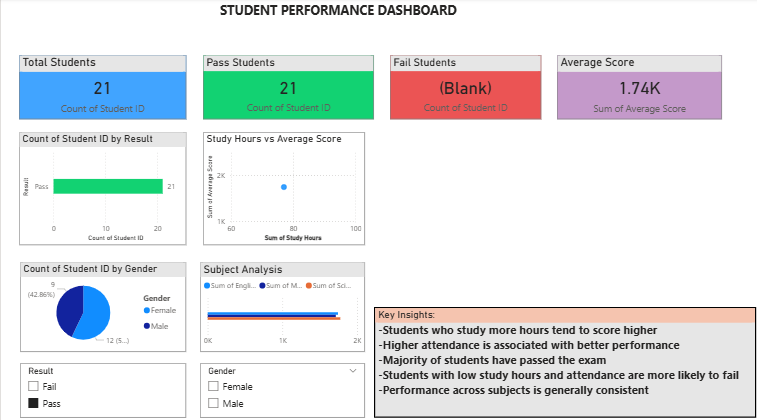

This screenshot's page, from the dashboard's own definition file:
{"tool":"powerbi","page":{"name":"Page 1","canvas":[1280,720],"ordinal":0},"visuals":[{"type":"card","title":"Total Students","fields":{"Values":["CountNonNull(cleaned_student_data.Student ID)"]},"box":[30.2,95.7,280.5,107.5],"z":0},{"type":"card","title":"Average Score","fields":{"Values":["Sum(cleaned_student_data.Average Score)"]},"box":[934,95.7,277.2,107.5],"z":1000},{"type":"card","title":"Pass Students","fields":{"Values":["CountNonNull(cleaned_student_data.Student ID)"]},"box":[339.3,95.7,287.2,107.5],"z":2000},{"type":"clusteredBarChart","fields":{"Category":["cleaned_student_data.Result"],"Y":["CountNonNull(cleaned_student_data.Student ID)"]},"box":[30.2,225.1,280.5,189.8],"z":3000},{"type":"scatterChart","title":"Study Hours vs Average Score","fields":{"X":["Sum(cleaned_student_data.Study Hours)"],"Y":["Sum(cleaned_student_data.Average Score)"]},"box":[339.3,225.1,272.1,189.8],"z":4000},{"type":"pieChart","fields":{"Category":["cleaned_student_data.Gender"],"Y":["CountNonNull(cleaned_student_data.Student ID)"]},"box":[31.9,443.5,278.8,151.2],"z":5000},{"type":"slicer","fields":{"Values":["cleaned_student_data.Gender"]},"box":[334.3,613.1,277.2,92.4],"z":6000},{"type":"slicer","fields":{"Values":["cleaned_student_data.Result"]},"box":[31.9,613.1,278.8,92.4],"z":7000},{"type":"card","title":"Fail Students","fields":{"Values":["CountNonNull(cleaned_student_data.Student ID)"]},"box":[653.4,95.7,253.6,107.5],"z":8000},{"type":"clusteredBarChart","title":"Subject Analysis","fields":{"Y":["Sum(cleaned_student_data.English Score)","Sum(cleaned_student_data.Math Score)","Sum(cleaned_student_data.Science Score)"]},"box":[334.3,443.5,277.2,151.2],"z":9000},{"type":"textbox","box":[362,0,556,82.3],"z":10000},{"type":"textbox","title":"Key Insights:","box":[626.6,519.1,641.7,186.5],"z":11000}]}

Visuals, with their boxes in screenshot pixels (x1, y1, x2, y2), scaled from the page's 1280x720 canvas onto the 757x420 screenshot:
"Total Students" card: l=18, t=56, r=184, b=119
"Average Score" card: l=552, t=56, r=716, b=119
"Pass Students" card: l=201, t=56, r=371, b=119
clusteredBarChart - cleaned_student_data.Result x CountNonNull(cleaned_student_data.Student ID): l=18, t=131, r=184, b=242
"Study Hours vs Average Score" scatterChart: l=201, t=131, r=362, b=242
pieChart - cleaned_student_data.Gender x CountNonNull(cleaned_student_data.Student ID): l=19, t=259, r=184, b=347
slicer - cleaned_student_data.Gender: l=198, t=358, r=362, b=412
slicer - cleaned_student_data.Result: l=19, t=358, r=184, b=412
"Fail Students" card: l=386, t=56, r=536, b=119
"Subject Analysis" clusteredBarChart: l=198, t=259, r=362, b=347
textbox: l=214, t=0, r=543, b=48
"Key Insights:" textbox: l=371, t=303, r=750, b=412
